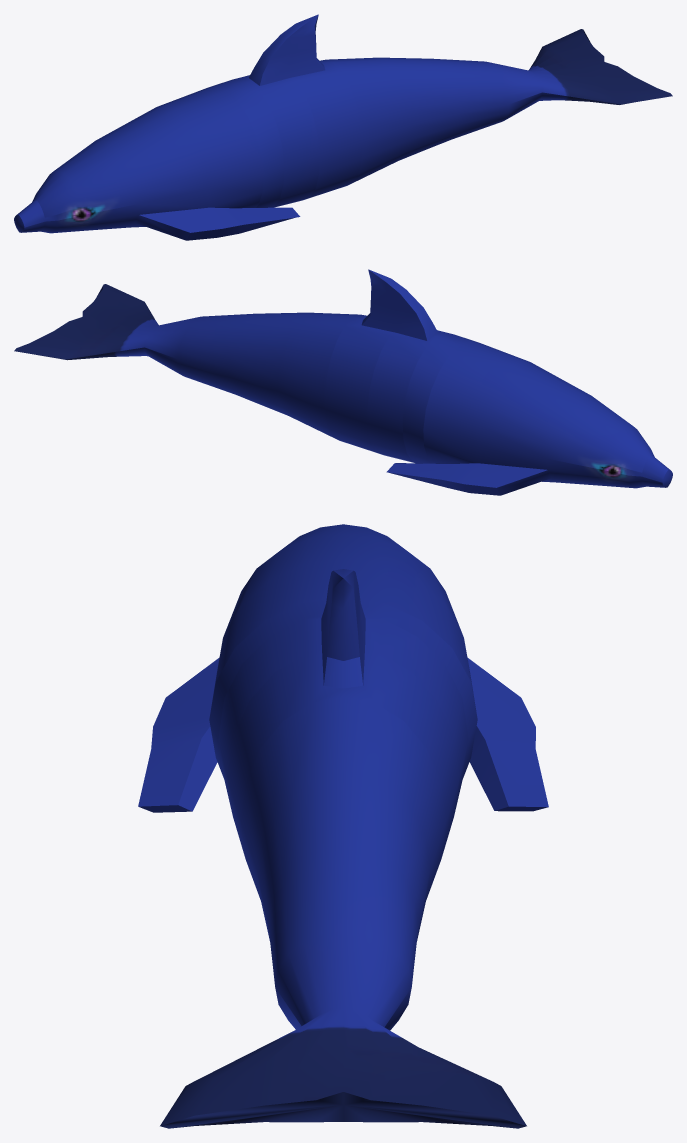
The model's file is Dolphin.fbx.
3 views of the same model, one above another, from view 1: azimuth 30°, elevation 25°; view 2: azimuth 150°, elevation 25°; view 3: azimuth 270°, elevation 25° (orthographic). The views are drawn at different scales.
Visible parts, largest first — view 1: pCylinder4; view 2: pCylinder4; view 3: pCylinder4.
Part boxes in pixels (x1,y1,x2,y2): pCylinder4: (14,14,672,240); pCylinder4: (14,269,672,495); pCylinder4: (138,524,548,1128).
Size of the model in its own units: 9.05 by 2.5 by 2.63.
Materials: 1 (1 with a texture image).
